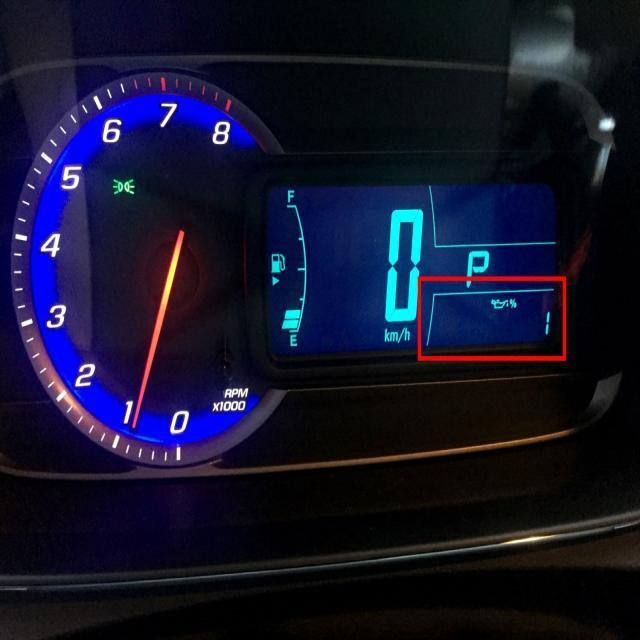SideLamp: (112, 177, 134, 194)
